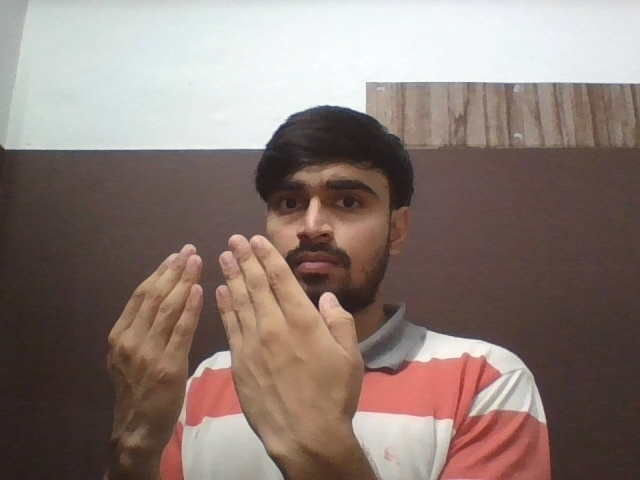Thankyou: (104, 233, 365, 452)
